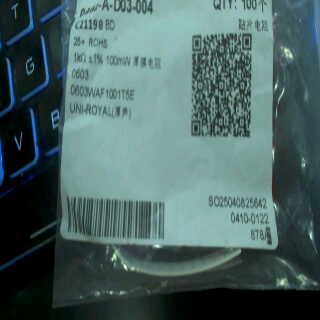1kR: (73, 50, 88, 66)
